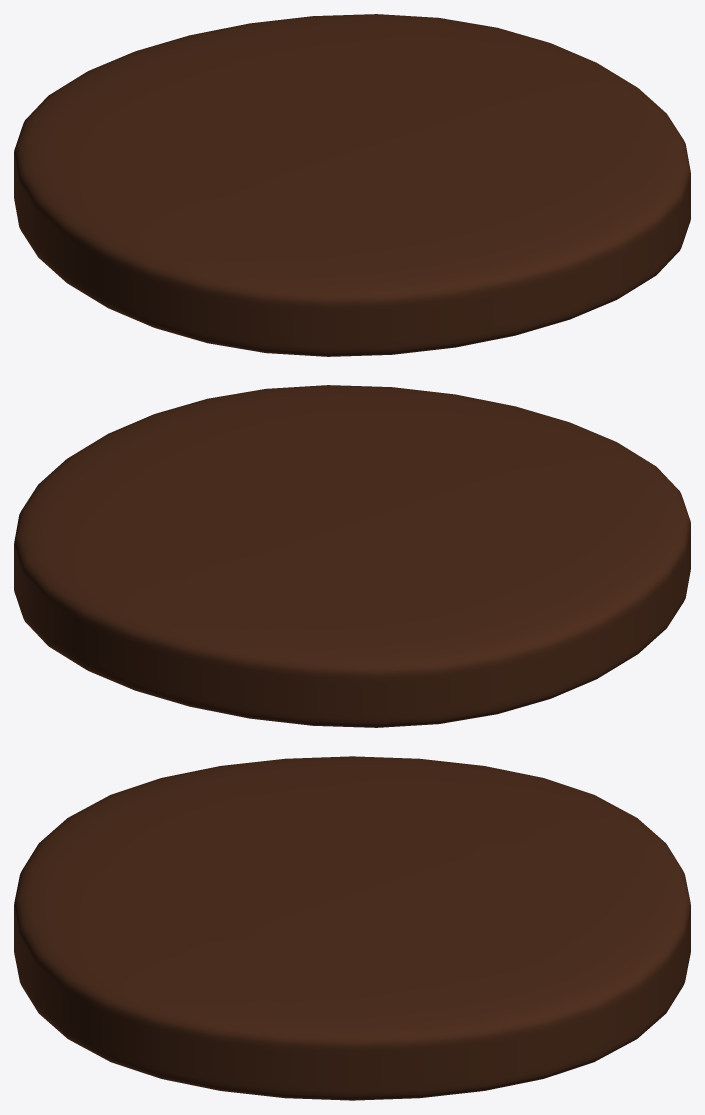
Rendered from steak.glb.
The picture shows the model from 3 angles, top to bottom: view 1: azimuth 30°, elevation 25°; view 2: azimuth 150°, elevation 25°; view 3: azimuth 270°, elevation 25°; orthographic projection. The views are drawn at different scales.
Visible parts, largest first — view 1: Cube.007; view 2: Cube.007; view 3: Cube.007.
Part boxes in pixels (x1,y1,x2,y2): Cube.007: (14, 14, 690, 356); Cube.007: (14, 385, 690, 727); Cube.007: (14, 756, 690, 1100).
Size of the model in its own units: 0.8937 by 0.1248 by 0.8937.
